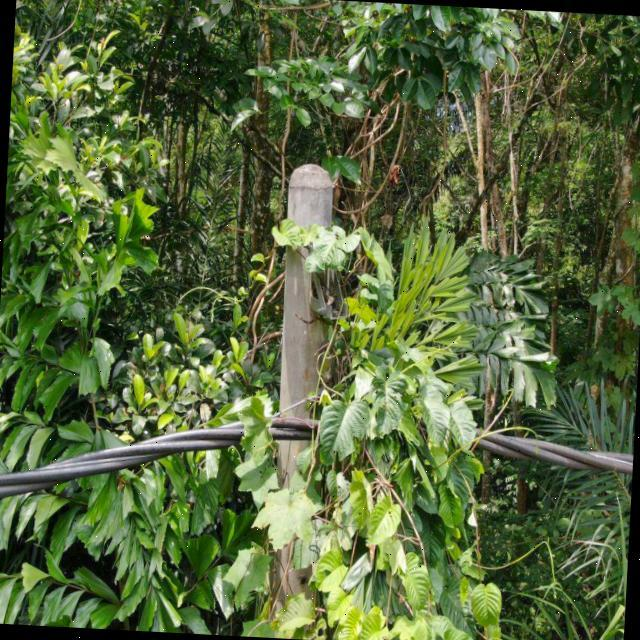critical vegetation: (232, 212, 475, 635)
